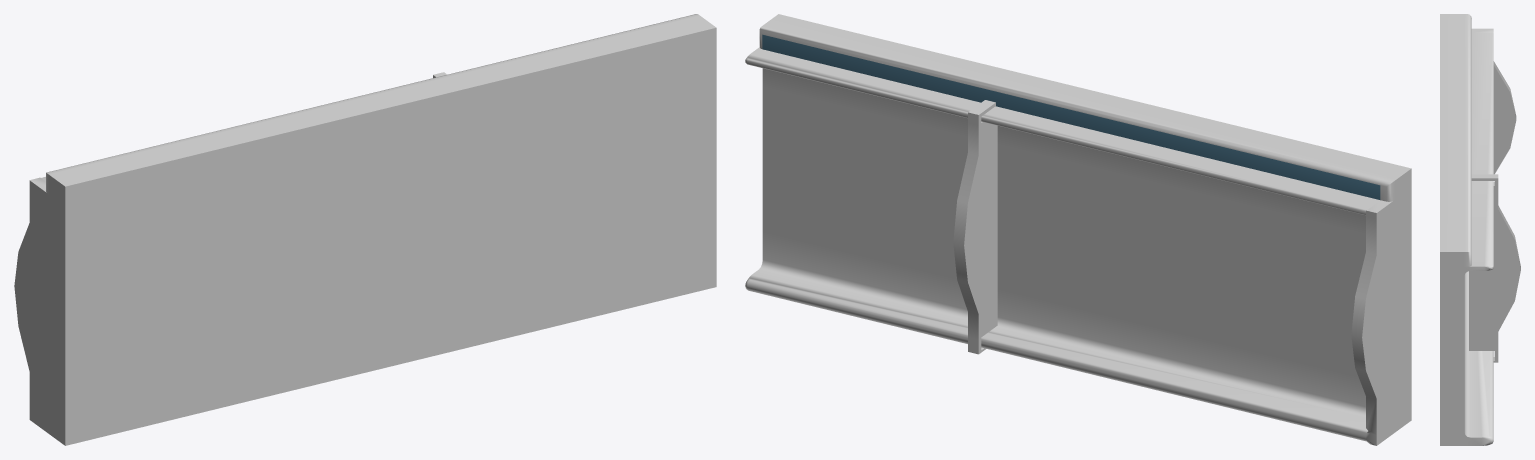
The picture shows the model from 3 angles, left to right: view 1: azimuth 30°, elevation 25°; view 2: azimuth 150°, elevation 25°; view 3: azimuth 270°, elevation 25°; orthographic projection. The views are drawn at different scales.
Parts seen in each view (by area): view 1: Cube; view 2: Cube; view 3: Cube.
Part boxes in pixels (x1=…): Cube: x1=14, y1=14, x2=716, y2=445; Cube: x1=745, y1=14, x2=1411, y2=445; Cube: x1=1440, y1=14, x2=1520, y2=445.
Size of the model in its own units: 94.5 by 36.35 by 13.57.
